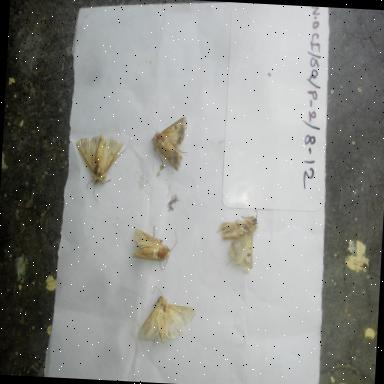abw: (70, 130, 132, 207), (132, 282, 200, 348), (212, 209, 262, 277), (143, 111, 191, 178), (127, 220, 182, 272)
